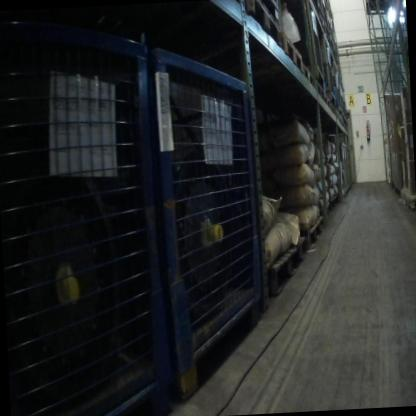pallet: (238, 0, 284, 53), (263, 243, 302, 302), (279, 24, 302, 76), (365, 0, 402, 19), (306, 215, 326, 250), (287, 233, 310, 258), (301, 60, 315, 95), (317, 15, 329, 44), (314, 77, 325, 104), (325, 41, 334, 59), (329, 98, 336, 118), (325, 90, 331, 112), (333, 55, 339, 71), (335, 108, 339, 121), (339, 114, 343, 126)
stillage: (0, 9, 181, 416), (147, 31, 277, 399), (290, 0, 324, 82), (320, 49, 336, 101), (336, 142, 348, 198), (335, 69, 345, 122), (342, 144, 351, 193), (332, 66, 341, 115), (321, 0, 331, 32), (310, 0, 325, 20)
